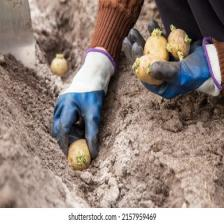Sprouted potato: (130, 50, 168, 86), (64, 134, 94, 174), (165, 18, 191, 62), (143, 28, 169, 66), (48, 52, 68, 79)
